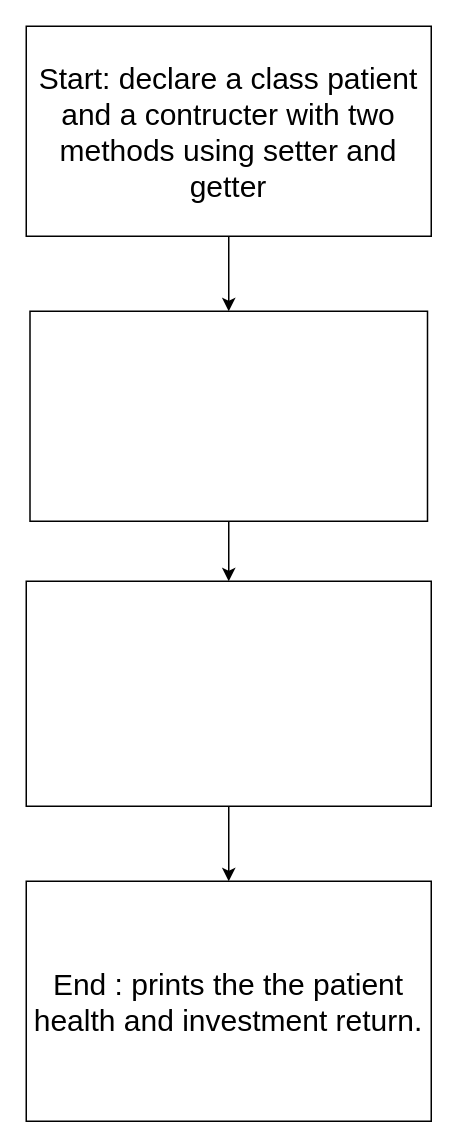
This 458x1148 diagram has some shape labels left out. The centre of each missing label's shape, as x and y in pixels:
Create the variables with private inside the class: point 228,415
use the inheritance using super keyword to iterate the paramters .: point 228,693
